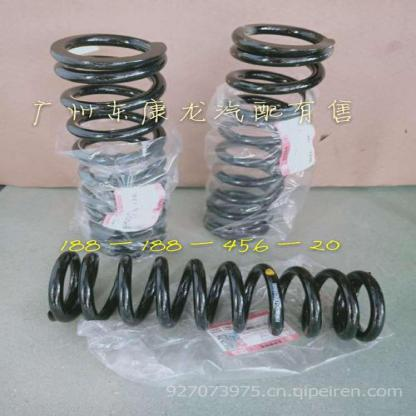FOD: (39, 249, 389, 345), (200, 21, 341, 243), (44, 31, 176, 258)
